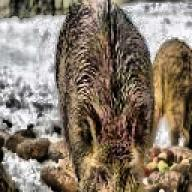boar: (52, 0, 156, 192), (150, 36, 192, 160)
